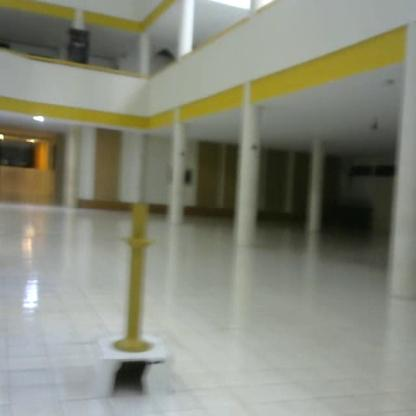pole: (110, 197, 164, 357)
